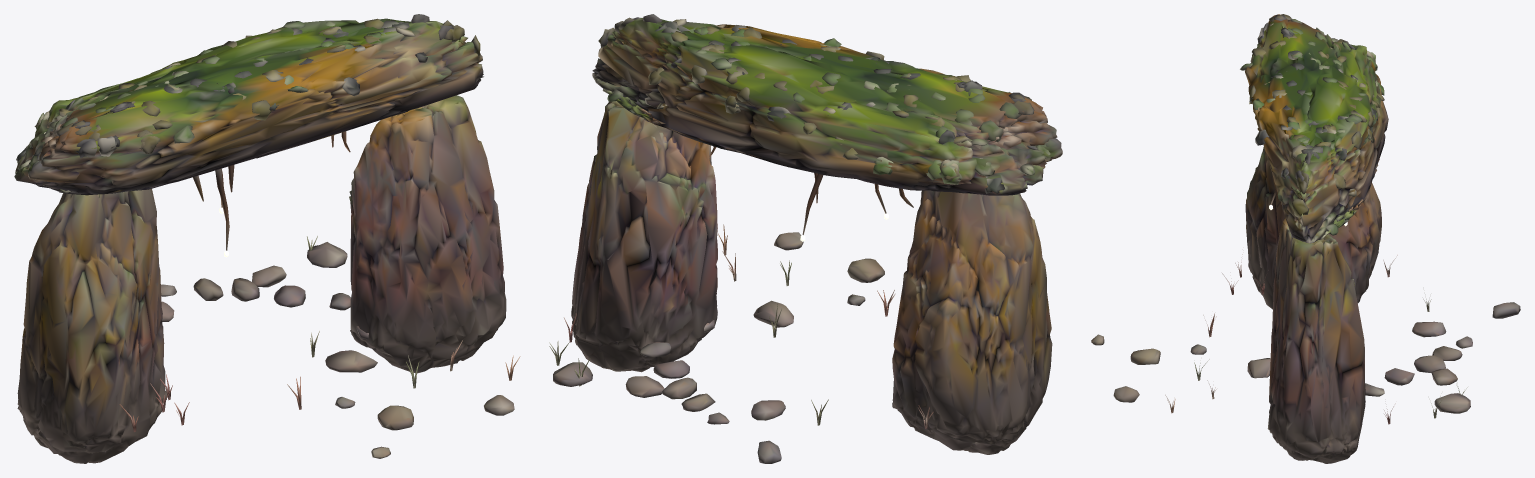
Rendered from tas_kemer.glb.
3 renders of one model, left to right at view 1: azimuth 30°, elevation 25°; view 2: azimuth 150°, elevation 25°; view 3: azimuth 270°, elevation 25°, orthographic. The views are drawn at different scales.
Visible parts, largest first — view 1: tas_kemer_LOD0; view 2: tas_kemer_LOD0; view 3: tas_kemer_LOD0.
Boxes of the visible parts, <box> form: tas_kemer_LOD0: <box>14,14,520,463</box>; tas_kemer_LOD0: <box>549,14,1062,463</box>; tas_kemer_LOD0: <box>1091,14,1520,463</box>.
Size of what is drawn, in the model's own units: 6.59 by 4.75 by 6.11.
